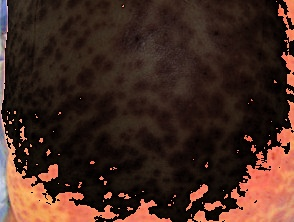SJS-TEN: (4, 1, 291, 222)
